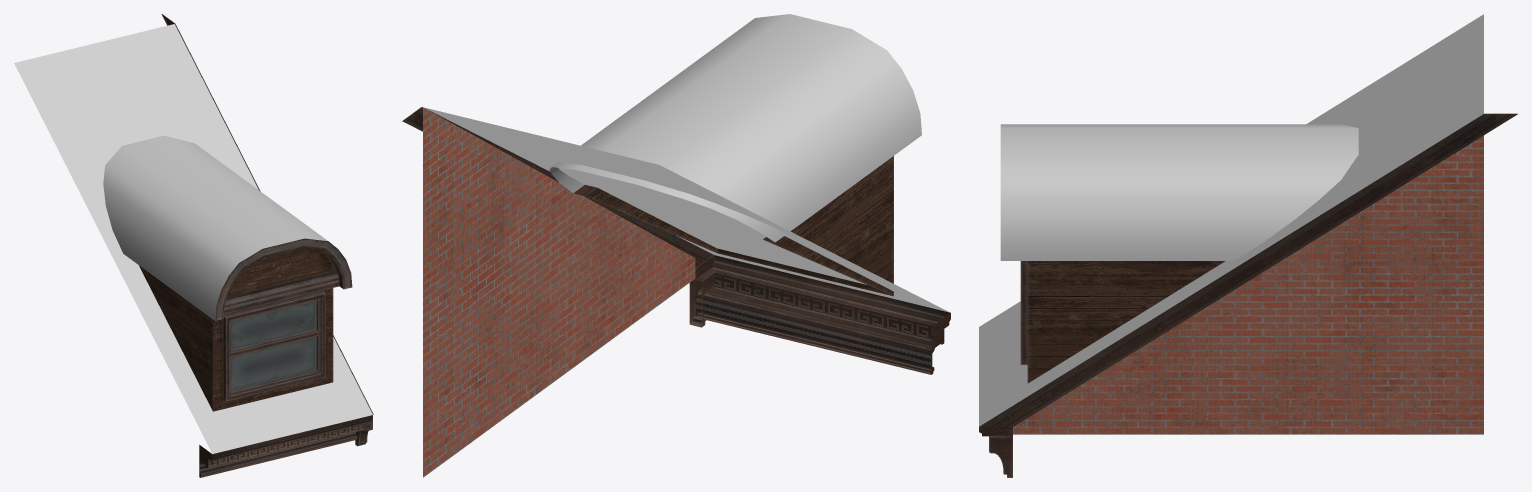
The model's file is House_03_Roof_02.fbx.
The picture shows the model from 3 angles, left to right: view 1: azimuth 30°, elevation 25°; view 2: azimuth 150°, elevation 25°; view 3: azimuth 270°, elevation 25°; orthographic projection. The views are drawn at different scales.
Parts seen in each view (by area): view 1: House_03_Roof_02_LOD0; view 2: House_03_Roof_02_LOD0; view 3: House_03_Roof_02_LOD0.
Part boxes in pixels (box(x1,y1,x2,y2)): House_03_Roof_02_LOD0: box(14, 14, 373, 477); House_03_Roof_02_LOD0: box(402, 14, 950, 477); House_03_Roof_02_LOD0: box(979, 14, 1517, 477).
Size of what is drawn, in the model's own units: 205 by 338 by 457.
